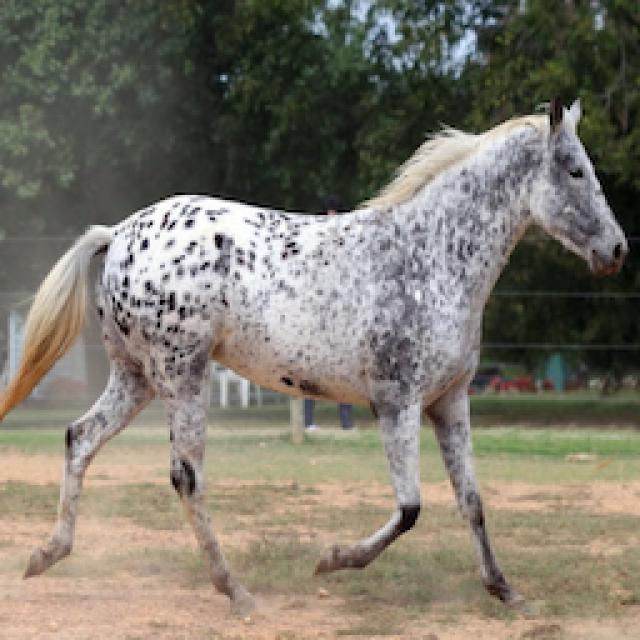Horse: (0, 90, 635, 622)
